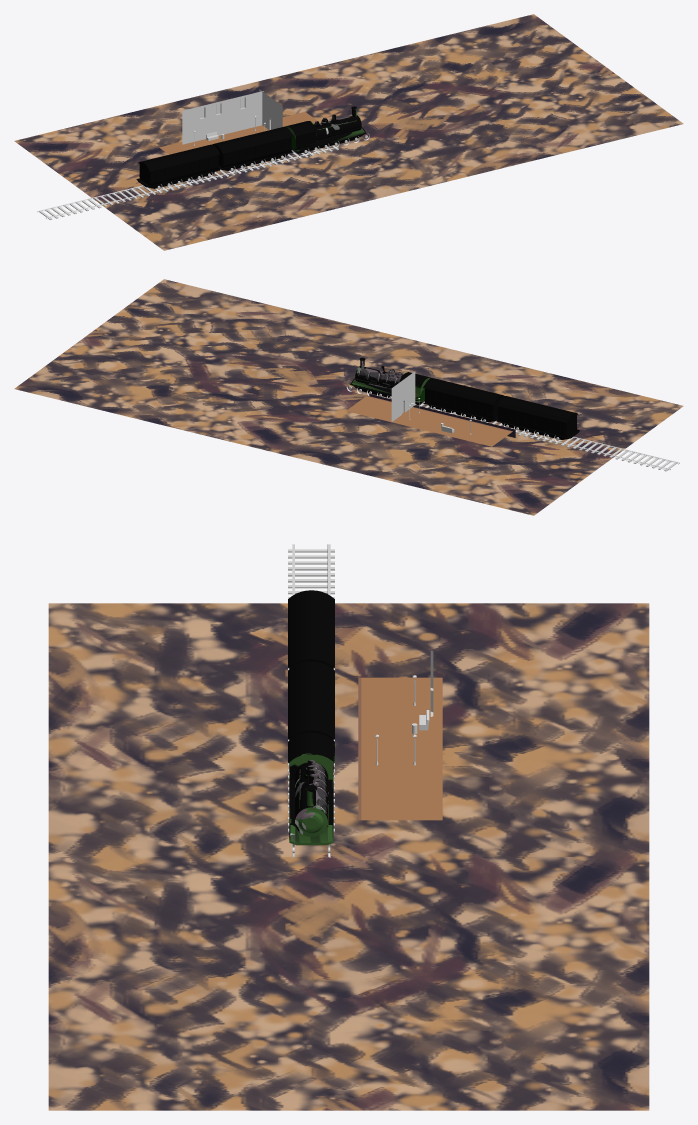
Rendered from kings_cross.glb.
3 renders of one model, top to bottom at view 1: azimuth 30°, elevation 25°; view 2: azimuth 150°, elevation 25°; view 3: azimuth 270°, elevation 25°, orthographic. The views are drawn at different scales.
Visible parts, largest first — view 1: Plane (×2), Carriage-body-col.001 (×2), Engine-col.001, track (×2), platform (×2); view 2: Plane (×2), Carriage-body-col.001 (×2), platform (×2), Engine-col.001, track; view 3: Plane (×2), platform (×2), Carriage-body-col.001 (×2), Engine-col.001, track.
Part boxes in pixels (x1,y1,x2,y2): Plane (×2): [14, 14, 683, 250]; Carriage-body-col.001 (×2): [136, 126, 293, 188]; Engine-col.001: [285, 106, 367, 153]; track (×2): [37, 145, 338, 219]; platform (×2): [159, 112, 320, 154]; Plane (×2): [14, 279, 683, 515]; Carriage-body-col.001 (×2): [423, 378, 579, 439]; platform (×2): [346, 394, 515, 446]; Engine-col.001: [349, 357, 430, 404]; track: [524, 432, 679, 471]; Plane (×2): [48, 603, 649, 1110]; platform (×2): [358, 677, 442, 820]; Carriage-body-col.001 (×2): [288, 590, 334, 772]; Engine-col.001: [288, 732, 334, 845]; track: [288, 544, 334, 670].
Size of the model in its own units: 142 by 10 by 64.
Materials: 6 (6 with a texture image).
